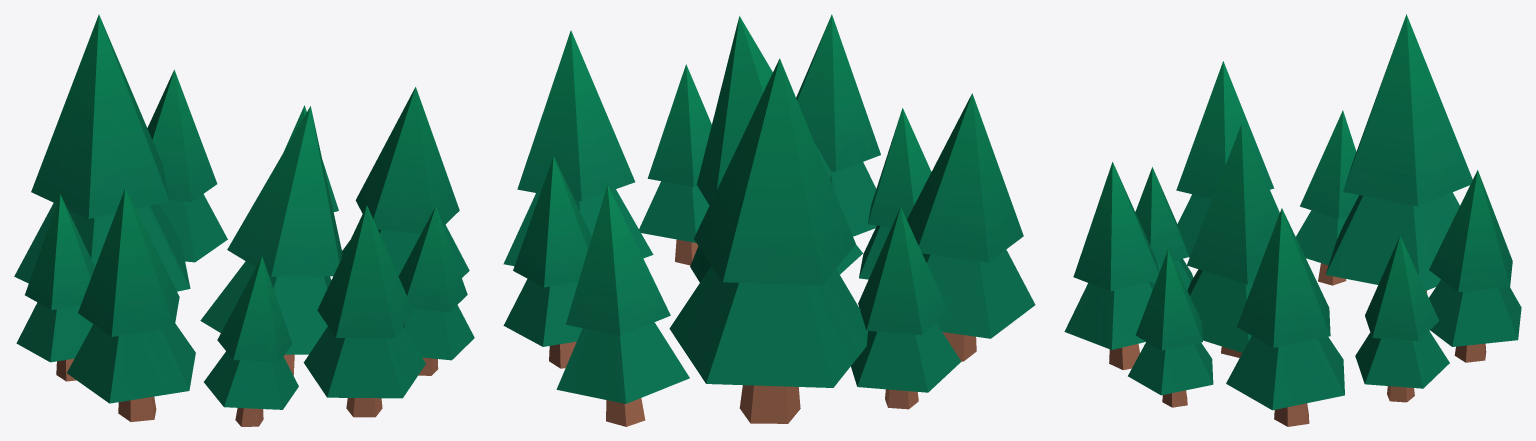
File: trees-a-m.glb
3 renders of one model, left to right at view 1: azimuth 30°, elevation 25°; view 2: azimuth 150°, elevation 25°; view 3: azimuth 270°, elevation 25°, orthographic. The views are drawn at different scales.
Parts seen in each view (by area): view 1: trees_A_medium; view 2: trees_A_medium; view 3: trees_A_medium.
Part boxes in pixels (<box>): trees_A_medium: <box>14,14,474,426</box>; trees_A_medium: <box>503,14,1035,426</box>; trees_A_medium: <box>1064,14,1521,426</box>.
Bounding box in the file's own units: 1.75 × 1.3 × 1.81.
1 material, 1 textured.
